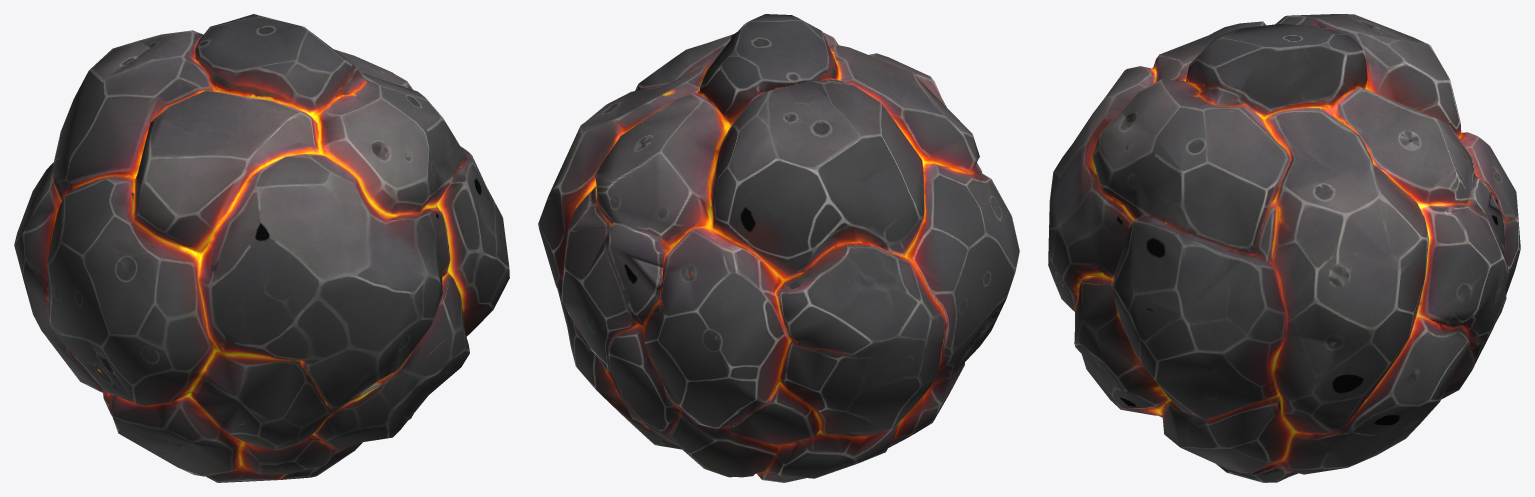
The model's file is MDL_Meteor_LavaCrackedSphere.fbx.
The picture shows the model from 3 angles, left to right: view 1: azimuth 30°, elevation 25°; view 2: azimuth 150°, elevation 25°; view 3: azimuth 270°, elevation 25°; orthographic projection.
Parts seen in each view (by area): view 1: Mesh1.0; view 2: Mesh1.0; view 3: Mesh1.0.
Boxes of the visible parts, left/top/right/bottom form: Mesh1.0: left=14, top=14, right=509, bottom=482; Mesh1.0: left=538, top=14, right=1019, bottom=482; Mesh1.0: left=1048, top=14, right=1520, bottom=482.
Size of the model in its own units: 184 by 192 by 187.
1 material, 1 textured.
